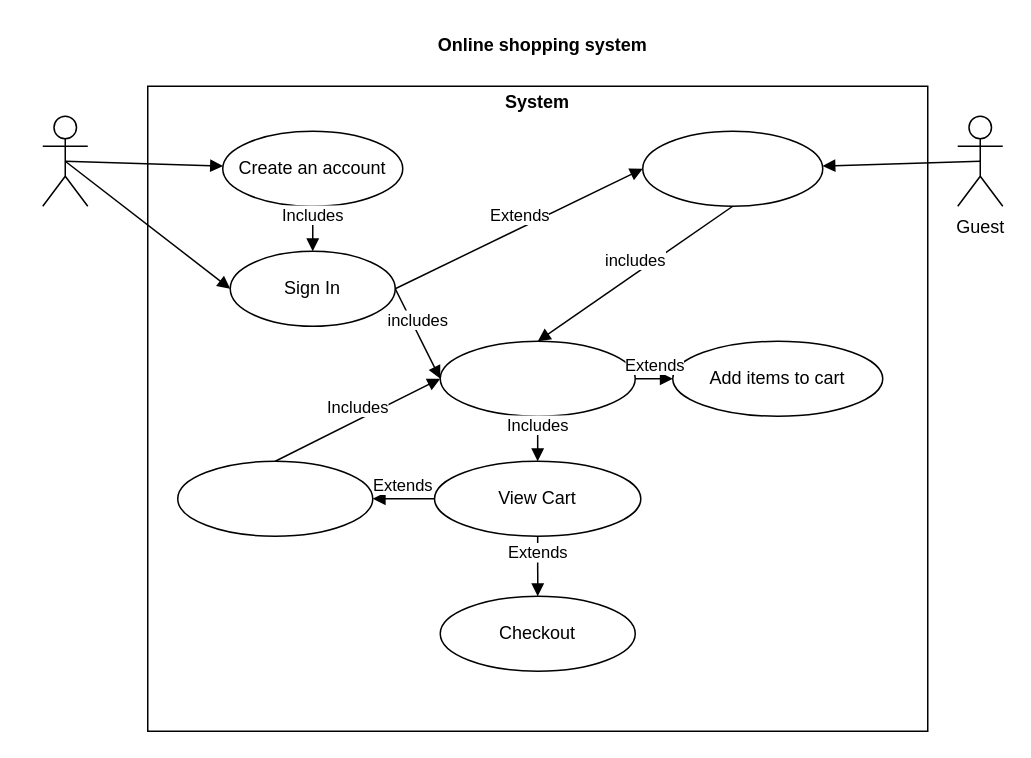
This 1031x758 diagram has some shape labels left out. The shapes that lost their labels are listed below. From the top down, each one's centre as x and y in pixels, then its label:
At (64,160): "Customer".
At (732,168): "Use as guest".
At (537,378): "View Products".
At (274,498): "Need to add more".
